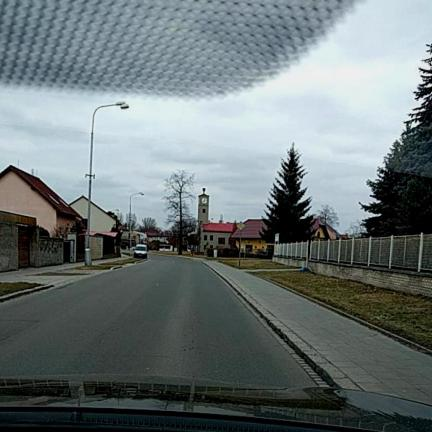Road: (0, 255, 314, 387)
